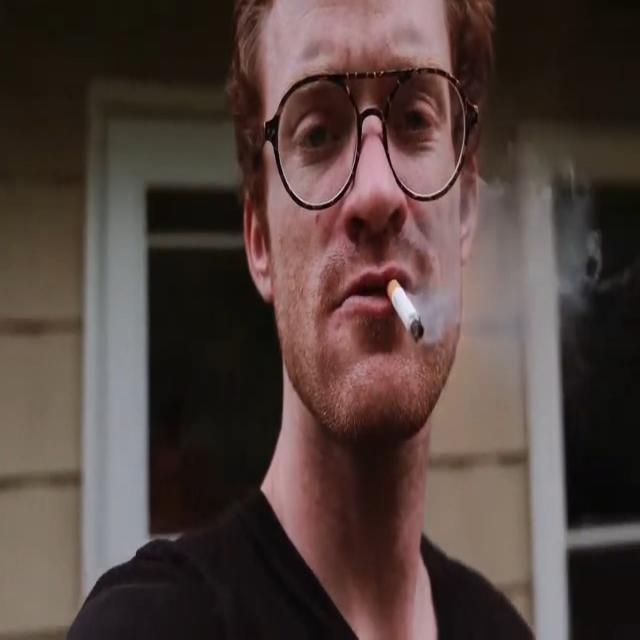Курение: (383, 276, 426, 346)
